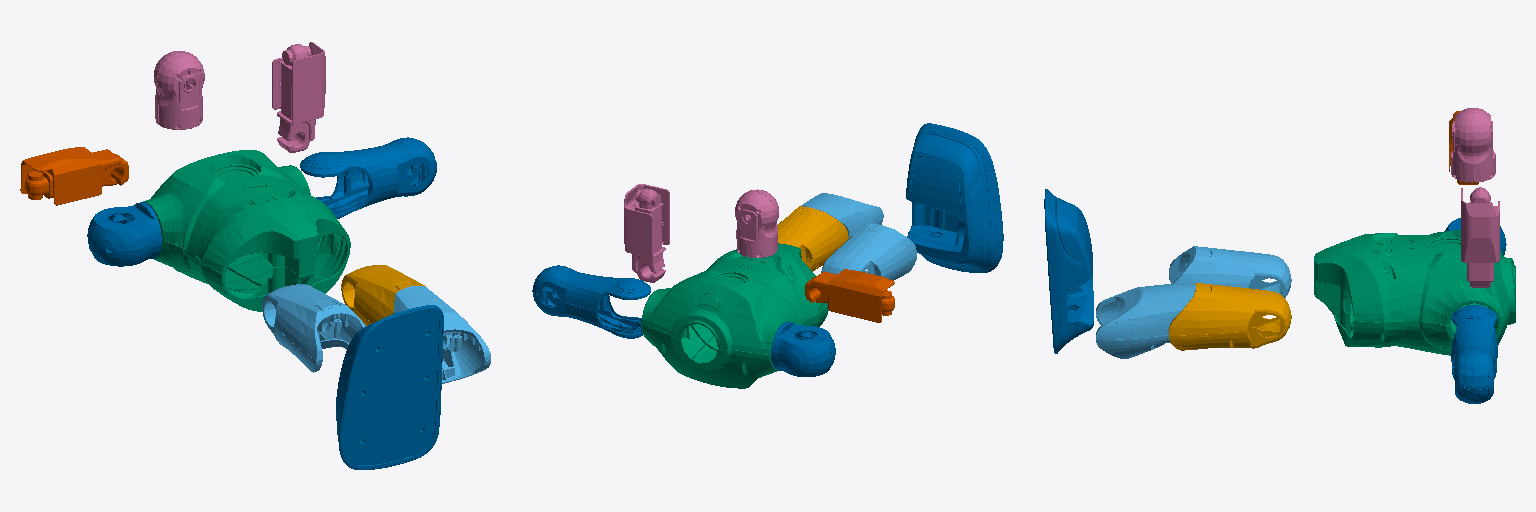
robot.urdf — H6_robot:
<?xml version="1.0" ?>
<robot name="H6_robot">

  <link name="head">
     <visual>
      <geometry>
        <mesh filename="meshes/Head_0.10.stl" scale="0.1 0.1 0.1"/>
      </geometry>
      <origin rpy="0 0 3.14" xyz="0  10 -0.006"/>
    </visual>
    <collision>
      <geometry>
        <mesh filename="meshes/Head_0.10.stl" scale="0.1 0.1 0.1"/>
      </geometry>
      <origin rpy="0 0 0" xyz="0 -0.055 -0.01"/>
    </collision>
  </link>

  <joint name="head_to_neck" type="revolute">
    <parent link="head"/>
    <child link="neck"/>
    <origin rpy="0 0 0" xyz="0  0  0"/>
    <axis xyz="1.0 0 0"/>
    <limit effort="1.329" lower="-0.2626" upper="0.5252" velocity="8.26797"/>
  </joint>

  <link name="neck">
     <visual>
      <geometry>
        <mesh filename="meshes/Neck_0.10.stl" scale="0.1 0.1 0.1"/>
      </geometry>
      <origin rpy="0 0 0" xyz="0  0  0"/>
    </visual>
    <collision>
      <geometry>
        <mesh filename="meshes/Neck_0.10.stl" scale="0.1 0.1 0.1"/>
      </geometry>
      <origin rpy="0 0 0" xyz="0  0  0"/>
    </collision>
  </link>


  <joint name="neck_to_torso" type="revolute">
    <parent link="neck"/>
    <child link="torso"/>
    <origin rpy="0 0 0" xyz="0  0  0"/>
    <axis xyz="0 1.0 0"/>
    <limit effort="1.329" lower="-1.5757" upper="1.5757" velocity="8.26797"/>
  </joint>


  <link name="torso">
    <visual>
      <geometry>
        <mesh filename="meshes/Torso_0.10.stl" scale="0.1 0.1 0.1"/>
      </geometry>
      <origin rpy="0 0 0" xyz="0 0 0"/>
    </visual>
    <collision>
      <geometry>
        <mesh filename="meshes/Torso_0.10.stl" scale="0.1 0.1 0.1"/>
      </geometry>
      <origin rpy="0 0 0" xyz="0 0 0"/>
    </collision>
  </link>


   <joint name="LShoulderPitch" type="revolute">
    <parent link="torso"/>
    <child link="LShoulder"/>
    <origin rpy="0 0 0" xyz="0.05 0.0 0.006"/>
    <axis xyz="1.0 0 0"/>
    <limit effort="1.329" lower="-3.1415" upper="1.0471" velocity="8.26797"/>
  </joint>

  <link name="LShoulder">
     <visual>
      <geometry>
        <mesh filename="meshes/LShoulderPitch_0.10.stl" scale="0.1 0.1 0.1"/>
      </geometry>
      <origin rpy="0 0 0" xyz="-0.05 0 -0.006"/>
    </visual>
    <collision>
      <geometry>
        <mesh filename="meshes/LShoulderPitch_0.10.stl" scale="0.1 0.1 0.1"/>
      </geometry>
      <origin rpy="0 0 0" xyz="-0.05 0 -0.006"/>
    </collision>
  </link>

  <joint name="LShoulderRoll" type="revolute">
    <parent link="LShoulder"/>
    <child link="LBicep"/>
    <origin rpy="0 0 0" xyz="0.04 0.0 0.0"/>
    <axis xyz="0 0 1.0"/>
    <limit effort="1.329" lower="-1.5757" upper="1.5757" velocity="8.26797"/>
  </joint>

  <link name="LBicep">
     <visual>
      <geometry>
        <mesh filename="meshes/LShoulderRoll_0.10.stl" scale="0.1 0.1 0.1"/>
      </geometry>
      <origin rpy="0 0 0" xyz="-0.09 0 -0.006"/>
    </visual>
    <collision>
      <geometry>
        <mesh filename="meshes/LShoulderRoll_0.10.stl" scale="0.1 0.1 0.1"/>
      </geometry>
      <origin rpy="0 0 0" xyz="-0.09 0 -0.006"/>
    </collision>
  </link>

  <joint name="LElbowYaw" type="revolute">
    <parent link="LBicep"/>
    <child link="LElbow"/>
    <origin rpy="0 0 0" xyz="0 0.0 0.0"/>
    <limit effort="1.329" lower="-1.5757" upper="1.5757" velocity="8.26797"/>
  </joint>

  <link name="LElbow">
     <visual>
      <geometry>
        <mesh filename="meshes/LElbow_0.10.stl" scale="0.1 0.1 0.1"/>
      </geometry>
      <origin rpy="0 -1.57 0" xyz="0 0 0"/>
    </visual>
    <collision>
      <geometry>
        <mesh filename="meshes/LElbow_0.10.stl" scale="0.1 0.1 0.1"/>
      </geometry>
      <origin rpy="0 -1.57 0" xyz="0 0 0"/>
    </collision>
  </link>

  <joint name="LHipYaw" type="revolute">
    <parent link="torso"/>
    <child link="LHipYaw"/>
    <origin rpy="-1.5757 0.0 3.14159" xyz="0.035 -0.035 0.0"/>
    <axis xyz="0 0 1.0"/>
    <limit effort="1.329" lower="-1.5757" upper="1.5757" velocity="8.26797"/>
  </joint>

  <link name="LHipYaw">
     <visual>
      <geometry>
        <mesh filename="meshes/LHipYaw_0.10.stl" scale="0.1 0.1 0.1"/>
      </geometry>
      <origin rpy="1.57 3.14 0" xyz="4 -4 0"/>
    </visual>
    <collision>
      <geometry>
        <mesh filename="meshes/LHipYaw_0.10.stl" scale="0.1 0.1 0.1"/>
      </geometry>
      <origin rpy="0 0 0" xyz="0.0 0.0 0.0"/>
    </collision>
  </link>

  <joint name="LHipRoll" type="revolute">
    <parent link="LHipYaw"/>
    <child link="LHipRoll"/>
    <origin rpy="1.5757 3.14159 0.0" xyz="0.0 0.0 0.09"/>
    <axis xyz="0 0 1.0"/>
    <limit effort="1.329" lower="-0.45" upper="1.5757" velocity="8.26797"/>
  </joint>

  <link name="LHipRoll">
     <visual>
      <geometry>
        <mesh filename="meshes/LHipRoll_0.10.stl" scale="0.1 0.1 0.1"/>
      </geometry>
      <origin rpy="0 0 0" xyz="0 0.1255 0.0"/>
    </visual>
    <collision>
      <geometry>
        <mesh filename="meshes/LHipRoll_0.10.stl" scale="0.1 0.1 0.1"/>
      </geometry>
      <origin rpy="0 0 0" xyz="-0.036 0.1255 0.0"/>
    </collision>
  </link>

 
  <joint name="LHipPitch" type="revolute">
    <parent link="LHipRoll"/>
    <child link="LHipPitch"/>
    <origin rpy="0.0 0.0 0.0" xyz="0.0 -0.044 0.0"/>
    <axis xyz="1.0 0 0"/>
    <limit effort="1.329" lower="-1.5757" upper="1.5757" velocity="8.26797"/>
  </joint>

  <link name="LHipPitch">
     <visual>
      <geometry>
        <mesh filename="meshes/LHipPitch_0.10.stl" scale="0.1 0.1 0.1"/>
      </geometry>
      <origin rpy="0 0 0" xyz="-0.035 0.168 0.0"/>
    </visual>
    <collision>
      <geometry>
        <mesh filename="meshes/LHipPitch_0.10.stl" scale="0.1 0.1 0.1"/>
      </geometry>
      <origin rpy="0 0 0" xyz="-0.035 0.168 0.0"/>
    </collision>
  </link>

  <joint name="LKnee" type="revolute">
    <parent link="LHipPitch"/>
    <child link="LKnee"/>
    <origin rpy="0.0 0.0 0.0" xyz="0.0 -0.06 0.0"/>
    <axis xyz="1.0 0 0"/>
    <limit effort="1.329" lower="0.0" upper="1.5757" velocity="8.26797"/>
  </joint>

  <link name="LKnee">
     <visual>
      <geometry>
        <mesh filename="meshes/LKnee_0.10.stl" scale="0.1 0.1 0.1"/>
      </geometry>
      <origin rpy="0 0 0" xyz="-0.035 0.228 0.0"/>
    </visual>
    <collision>
      <geometry>
        <mesh filename="meshes/LKnee_0.10.stl" scale="0.1 0.1 0.1"/>
      </geometry>
      <origin rpy="0 0 0" xyz="-0.035 0.228 0.0"/>
    </collision>
  </link>

  <joint name="LAnklePitch" type="revolute">
    <parent link="LKnee"/>
    <child link="LAnklePitch"/>
    <origin rpy="0.0 0.0 0.0" xyz="0.0 0.0 0.0"/>
    <axis xyz="1.0 0 0"/>
    <limit effort="1.329" lower="-1.0" upper="1.0" velocity="8.26797"/>
  </joint>

  <link name="LAnklePitch">
     <visual>
      <geometry>
        <mesh filename="meshes/LAnklePitch_0.10.stl" scale="0.1 0.1 0.1"/>
      </geometry>
      <origin rpy="1.5757 0 1.5757" xyz="3 -31 0.0"/>
    </visual>
    <collision>
      <geometry>
        <mesh filename="meshes/LAnklePitch_0.10.stl" scale="0.1 0.1 0.1"/>
      </geometry>
      <origin rpy="1.5757 0 1.5757" xyz="0.0 -0.014 0.0"/>
    </collision>
  </link>
 
  <joint name="LAnkleRoll" type="revolute">
    <parent link="LAnklePitch"/>
    <child link="LAnkleRoll"/>
    <origin rpy="0.0 0.0 0.0" xyz="0.0 -0.035 0.0"/>
    <axis xyz="0 0 1.0"/>
    <limit effort="1.329" lower="-0.85" upper="0.45" velocity="8.26797"/>
  </joint>

  <link name="LAnkleRoll">
     <visual>
      <geometry>
        <mesh filename="meshes/LAnkleRoll_0.10.stl" scale="0.1 0.1 0.1"/>
      </geometry>
      <origin rpy="0.0 0 0.0" xyz="-0.035 0.33 0.008"/>
    </visual>
    <collision>
      <geometry>
        <mesh filename="meshes/LAnkleRoll_0.10.stl" scale="0.1 0.1 0.1"/>
      </geometry>
      <origin rpy="0 0 0" xyz="-0.035 0.33 0.008"/>
    </collision>
  </link>


  <joint name="RShoulderPitch" type="revolute">
    <parent link="torso"/>
    <child link="RShoulder"/>
    <origin rpy="0 0 0" xyz="-0.05 0.0 0.006"/>
    <axis xyz="1.0 0 0"/>
    <limit effort="1.329" lower="-3.1415" upper="1.0471" velocity="8.26797"/>
  </joint>

  <link name="RShoulder">
     <visual>
      <geometry>
        <mesh filename="meshes/RShoulderPitch_0.10.stl" scale="0.1 0.1 0.1"/>
      </geometry>
      <origin rpy="0 0 0" xyz="0.05 0 -0.006"/>
    </visual>
    <collision>
      <geometry>
        <mesh filename="meshes/RShoulderPitch_0.10.stl" scale="0.1 0.1 0.1"/>
      </geometry>
      <origin rpy="0 0 0" xyz="0.05 0 -0.006"/>
    </collision>
  </link>


  <joint name="RShoulderRoll" type="revolute">
    <parent link="RShoulder"/>
    <child link="RBicep"/>
    <origin rpy="0 0 0" xyz="-0.04 0.0 0.0"/>
    <axis xyz="0 0 1.0"/>
    <limit effort="1.329" lower="-1.5757" upper="1.5757" velocity="8.26797"/>
  </joint>

  <link name="RBicep">
     <visual>
      <geometry>
        <mesh filename="meshes/RShoulderRoll_0.10.stl" scale="0.1 0.1 0.1"/>
      </geometry>
      <origin rpy="0 0 0" xyz="0.09 0 -0.006"/>
    </visual>
    <collision>
      <geometry>
        <mesh filename="meshes/RShoulderRoll_0.10.stl" scale="0.1 0.1 0.1"/>
      </geometry>
      <origin rpy="0 0 0" xyz="0.09 0 -0.006"/>
    </collision>
  </link>

 <joint name="RElbowYaw" type="revolute">
    <parent link="RBicep"/>
    <child link="RElbow"/>
    <origin rpy="0 -1.575 3.14159" xyz="-0.075 0.0 0.0"/>
    <axis xyz="0 1.0 0"/>
    <limit effort="1.329" lower="-1.5757" upper="1.5757" velocity="8.26797"/>
  </joint>

  <link name="RElbow">
     <visual>
      <geometry>
        <mesh filename="meshes/RElbow_0.10.stl" scale="0.1 0.1 0.1"/>
      </geometry>
      <origin rpy="0 1.57 0" xyz="-5 0.0 0.135"/>
    </visual>
    <collision>
      <geometry>
        <mesh filename="meshes/RElbow_0.10.stl" scale="0.1 0.1 0.1"/>
      </geometry>
      <origin rpy="0 0 0" xyz="-0.0125 0.0 0.135"/>
    </collision>
  </link> 

  <joint name="RHipYaw" type="revolute">
    <parent link="torso"/>
    <child link="RHipYaw"/>
    <origin rpy="-1.5757 0.0 3.14159" xyz="-0.035 -0.035 0.0"/>
    <axis xyz="0 0 1.0"/>
    <limit effort="1.329" lower="-1.5757" upper="1.5757" velocity="8.26797"/>
  </joint>

  <link name="RHipYaw">
     <visual>
      <geometry>
        <mesh filename="meshes/RHipYaw_0.10.stl" scale="0.1 0.1 0.1"/>
      </geometry>
      <origin rpy="1.57 3.14 0" xyz="-4 -4 0"/>
    </visual>
    <collision>
      <geometry>
        <mesh filename="meshes/RHipYaw_0.10.stl" scale="0.1 0.1 0.1"/>
      </geometry>
      <origin rpy="0 0 0" xyz="0.0 0.0 0.0"/>
    </collision>
  </link>

  <joint name="RHipRoll" type="revolute">
    <parent link="RHipYaw"/>
    <child link="RHipRoll"/>
    <origin rpy="1.5757 3.14159 0.0" xyz="0.0 0.0 0.09"/>
    <axis xyz="0 0 1.0"/>
    <limit effort="1.329" lower="-1.5757" upper="0.45" velocity="8.26797"/>
  </joint>

  <link name="RHipRoll">
     <visual>
      <geometry>
        <mesh filename="meshes/RHipRoll_0.10.stl" scale="0.1 0.1 0.1"/>
      </geometry>
      <origin rpy="0 0 0" xyz="0.036 0.1255 0.0"/>
    </visual>
    <collision>
      <geometry>
        <mesh filename="meshes/RHipRoll_0.10.stl" scale="0.1 0.1 0.1"/>
      </geometry>
      <origin rpy="0 0 0" xyz="-0.036 0.1255 0.0"/>
    </collision>
  </link>
 
  <joint name="RHipPitch" type="revolute">
    <parent link="RHipRoll"/>
    <child link="RHipPitch"/>
    <origin rpy="0.0 0.0 0.0" xyz="0.0 -0.044 0.0"/>
    <axis xyz="1.0 0 0"/>
    <limit effort="1.329" lower="-1.5757" upper="1.5757" velocity="8.26797"/>
  </joint>

  <link name="RHipPitch">
     <visual>
      <geometry>
        <mesh filename="meshes/RHipPitch_0.10.stl" scale="0.1 0.1 0.1"/>
      </geometry>
      <origin rpy="0 0 0" xyz="0.035 0.168 0.0"/>
    </visual>
    <collision>
      <geometry>
        <mesh filename="meshes/RHipPitch_0.10.stl" scale="0.1 0.1 0.1"/>
      </geometry>
      <origin rpy="0 0 0" xyz="0.035 0.168 0.0"/>
    </collision>
  </link>

  <joint name="RKnee" type="revolute">
    <parent link="RHipPitch"/>
    <child link="RKnee"/>
    <origin rpy="0.0 0.0 0.0" xyz="0.0 -0.06 0.0"/>
    <axis xyz="1.0 0 0"/>
    <limit effort="1.329" lower="0.0" upper="1.5757" velocity="8.26797"/>
  </joint>

  <link name="RKnee">
     <visual>
      <geometry>
        <mesh filename="meshes/RKnee_0.10.stl" scale="0.1 0.1 0.1"/>
      </geometry>
      <origin rpy="0 0 0" xyz="0.035 0.228 0.0"/>
    </visual>
    <collision>
      <geometry>
        <mesh filename="meshes/RKnee_0.10.stl" scale="0.1 0.1 0.1"/>
      </geometry>
      <origin rpy="0 0 0" xyz="0.035 0.228 0.0"/>
    </collision>
  </link>

  <joint name="RAnklePitch" type="revolute">
    <parent link="RKnee"/>
    <child link="RAnklePitch"/>
    <origin rpy="0.0 0.0 0.0" xyz="0.0 -0.065 -0.008"/>
    <axis xyz="1.0 0 0"/>
    <limit effort="1.329" lower="-1.0" upper="1.0" velocity="8.26797"/>
  </joint>

  <link name="RAnklePitch">
     <visual>
      <geometry>
        <mesh filename="meshes/RAnklePitch_0.10.stl" scale="0.1 0.1 0.1"/>
      </geometry>
      <origin rpy="1.5757 0 1.5757" xyz="-3 -31 0.0"/>
    </visual>
    <collision>
      <geometry>
        <mesh filename="meshes/RAnklePitch_0.10.stl" scale="0.1 0.1 0.1"/>
      </geometry>
      <origin rpy="1.5757 0 1.5757" xyz="0.0 -0.014 0.0"/>
    </collision>
  </link>
 
  <joint name="RAnkleRoll" type="revolute">
    <parent link="RAnklePitch"/>
    <child link="RAnkleRoll"/>
    <origin rpy="0.0 0.0 0.0" xyz="0.0 -0.035 0.0"/>
    <axis xyz="0 0 1.0"/>
    <limit effort="1.329" lower="-0.85" upper="0.45" velocity="8.26797"/>
  </joint>

  <link name="RAnkleRoll">
     <visual>
      <geometry>
        <mesh filename="meshes/RAnkleRoll_0.10.stl" scale="0.1 0.1 0.1"/>
      </geometry>
      <origin rpy="0.0 0 0.0" xyz="0.035 0.33 0.008"/>
    </visual>
    <collision>
      <geometry>
        <mesh filename="meshes/RAnkleRoll_0.10.stl" scale="0.1 0.1 0.1"/>
      </geometry>
      <origin rpy="0 0 0" xyz="0.035 0.33 0.008"/>
    </collision>
  </link>  

</robot>

--- Render facts (derived) ---
3 views of the same robot in one strip: view 1: azimuth 30°, elevation 25°; view 2: azimuth 150°, elevation 25°; view 3: azimuth 270°, elevation 25° (orthographic).
Robot: H6_robot — 21 links, 20 joints (20 revolute); root link head; default pose: all joints at 0.
Visible links, largest first — view 1: torso, RAnkleRoll, LBicep, RHipPitch, RElbow, LElbow, RShoulder, LHipYaw, LKnee, LHipPitch; view 2: torso, RAnkleRoll, LBicep, RElbow, RHipPitch, LElbow, RShoulder, LHipPitch, LHipYaw, LKnee; view 3: torso, LHipPitch, RAnkleRoll, LKnee, RHipPitch, LBicep, RElbow, LHipYaw.
Boxes of the visible links, bbox=[...] form: torso: bbox=[143, 150, 350, 311]; RAnkleRoll: bbox=[336, 305, 443, 469]; LBicep: bbox=[300, 137, 436, 218]; RHipPitch: bbox=[262, 284, 365, 372]; RElbow: bbox=[272, 42, 325, 152]; LElbow: bbox=[20, 147, 128, 205]; RShoulder: bbox=[87, 202, 161, 266]; LHipYaw: bbox=[154, 51, 204, 129]; LKnee: bbox=[393, 286, 490, 383]; LHipPitch: bbox=[341, 265, 425, 325]; torso: bbox=[641, 243, 828, 388]; RAnkleRoll: bbox=[906, 123, 1003, 272]; LBicep: bbox=[532, 265, 650, 338]; RElbow: bbox=[624, 184, 669, 282]; RHipPitch: bbox=[821, 223, 916, 280]; LElbow: bbox=[805, 269, 894, 322]; RShoulder: bbox=[771, 322, 835, 376]; LHipPitch: bbox=[777, 206, 848, 271]; LHipYaw: bbox=[735, 189, 778, 257]; LKnee: bbox=[801, 193, 883, 239]; torso: bbox=[1314, 230, 1515, 355]; LHipPitch: bbox=[1169, 283, 1291, 350]; RAnkleRoll: bbox=[1044, 189, 1093, 353]; LKnee: bbox=[1096, 282, 1197, 358]; RHipPitch: bbox=[1169, 246, 1291, 297]; LBicep: bbox=[1451, 305, 1497, 403]; RElbow: bbox=[1461, 187, 1499, 287]; LHipYaw: bbox=[1451, 108, 1495, 182].
Size in the robot's own frame: 36.73 by 38.67 by 21.4 metres.
10 mesh visuals loaded from 21 distinct referenced files (10 binary STL); not drawn: 11 (reference not matched to a file when rendering).